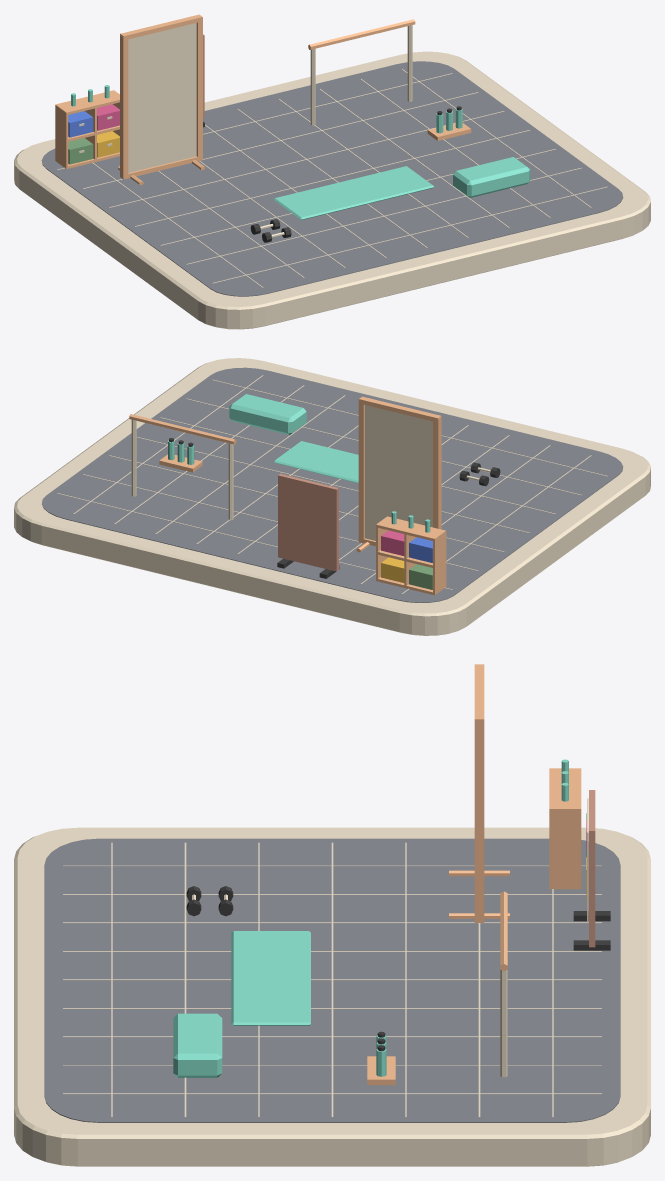
File: room.fbx
3 renders of one model, top to bottom at view 1: azimuth 30°, elevation 25°; view 2: azimuth 150°, elevation 25°; view 3: azimuth 270°, elevation 25°, orthographic. The views are drawn at different scales.
Visible parts, largest first — view 1: COM-02 Floor Surface, COM-01 Rounded Base Direct, Mirror face, Exercise mat, Step, Frame, Frame.001, Cubbies divider, Cubbies shelf.002, Frame.003, Bar, Storage bin (+9 smaller); view 2: COM-02 Floor Surface, COM-01 Rounded Base Direct, Mirror face, Panel, Step, Exercise mat, Frame, Frame.001, Cubbies divider, Cubbies shelf.002, Bar, Frame.003 (+8 smaller); view 3: COM-02 Floor Surface, COM-01 Rounded Base Direct, Exercise mat, Step, Cubbies divider.002, Frame.001, Cubbies shelf.002, Panel, Grout X.008, Grout X.002, Grout X, Grout X.006 (+3 smaller).
Part boxes in pixels (bbox=[...]): COM-02 Floor Surface: bbox=[41, 61, 623, 296]; COM-01 Rounded Base Direct: bbox=[14, 51, 650, 329]; Mirror face: bbox=[128, 23, 196, 172]; Exercise mat: bbox=[274, 166, 434, 219]; Step: bbox=[453, 157, 530, 197]; Frame: bbox=[120, 35, 128, 177]; Frame.001: bbox=[196, 21, 202, 159]; Cubbies divider: bbox=[55, 105, 68, 168]; Cubbies shelf.002: bbox=[55, 90, 119, 114]; Frame.003: bbox=[120, 14, 202, 39]; Bar: bbox=[308, 19, 415, 49]; Storage bin: bbox=[68, 138, 93, 164]; COM-02 Floor Surface: bbox=[42, 367, 623, 602]; COM-01 Rounded Base Direct: bbox=[14, 358, 650, 635]; Mirror face: bbox=[365, 405, 432, 540]; Panel: bbox=[278, 473, 338, 571]; Step: bbox=[229, 394, 306, 434]; Exercise mat: bbox=[274, 441, 358, 483]; Frame: bbox=[433, 417, 441, 529]; Frame.001: bbox=[358, 400, 364, 541]; Cubbies divider: bbox=[433, 531, 446, 595]; Cubbies shelf.002: bbox=[376, 516, 445, 540]; Bar: bbox=[129, 414, 236, 444]; Frame.003: bbox=[358, 396, 441, 422]; COM-02 Floor Surface: bbox=[44, 838, 620, 1122]; COM-01 Rounded Base Direct: bbox=[14, 827, 650, 1166]; Exercise mat: bbox=[231, 931, 310, 1025]; Step: bbox=[173, 1013, 222, 1077]; Cubbies divider.002: bbox=[549, 809, 581, 889]; Frame.001: bbox=[474, 721, 484, 921]; Cubbies shelf.002: bbox=[549, 768, 581, 809]; Panel: bbox=[589, 790, 595, 947]; Grout X.008: bbox=[63, 1093, 601, 1094]; Grout X.002: bbox=[63, 922, 601, 923]; Grout X: bbox=[63, 865, 601, 866]; Grout X.006: bbox=[63, 1036, 601, 1037].
Bounding box in the file's own units: 600 × 215 × 520.
